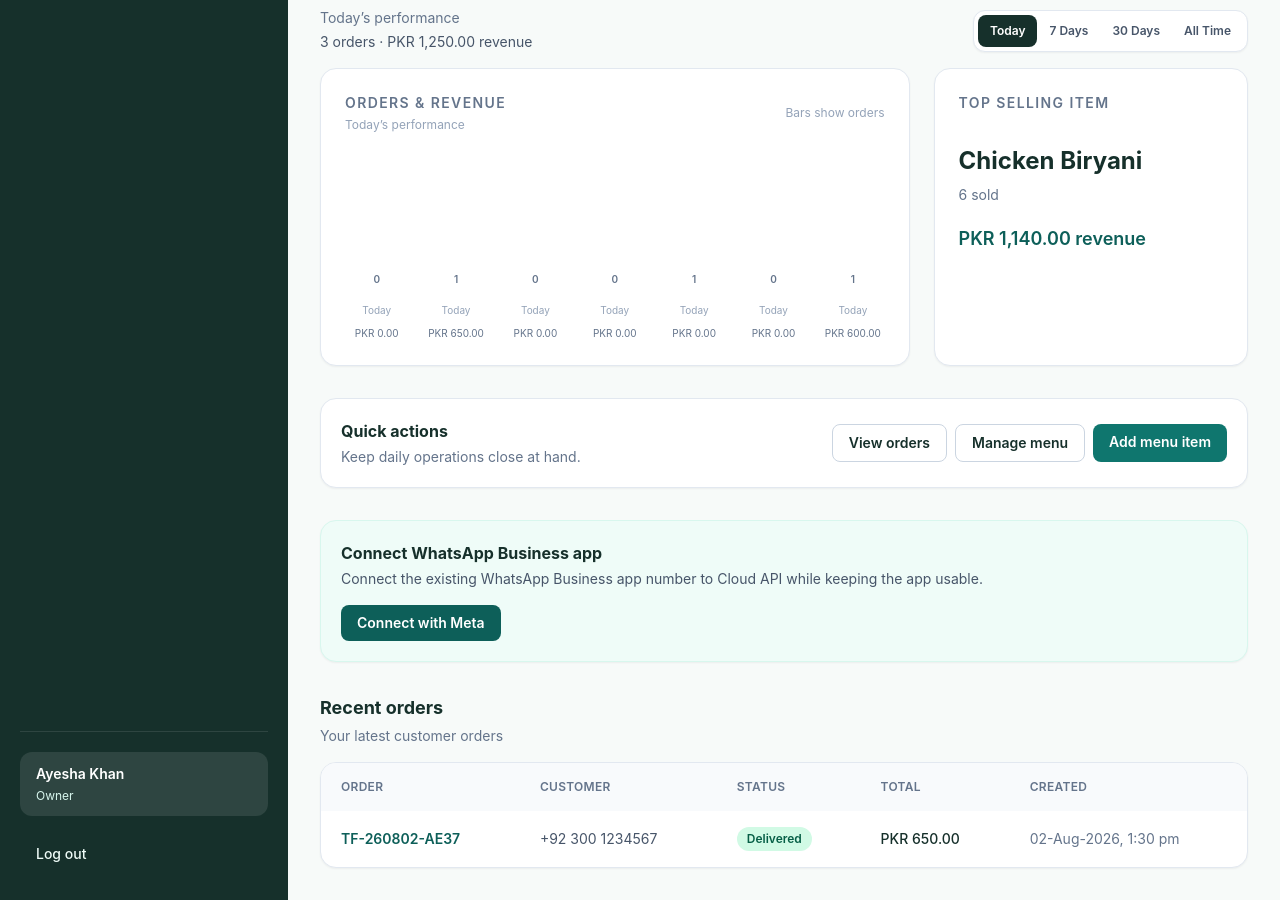
Scenario: TiffinAI admin dashboard › logs out and returns to login
(page scrolled)
Click the button "Log out" at (144, 854), box [20,832,268,876]
(page scrolled)
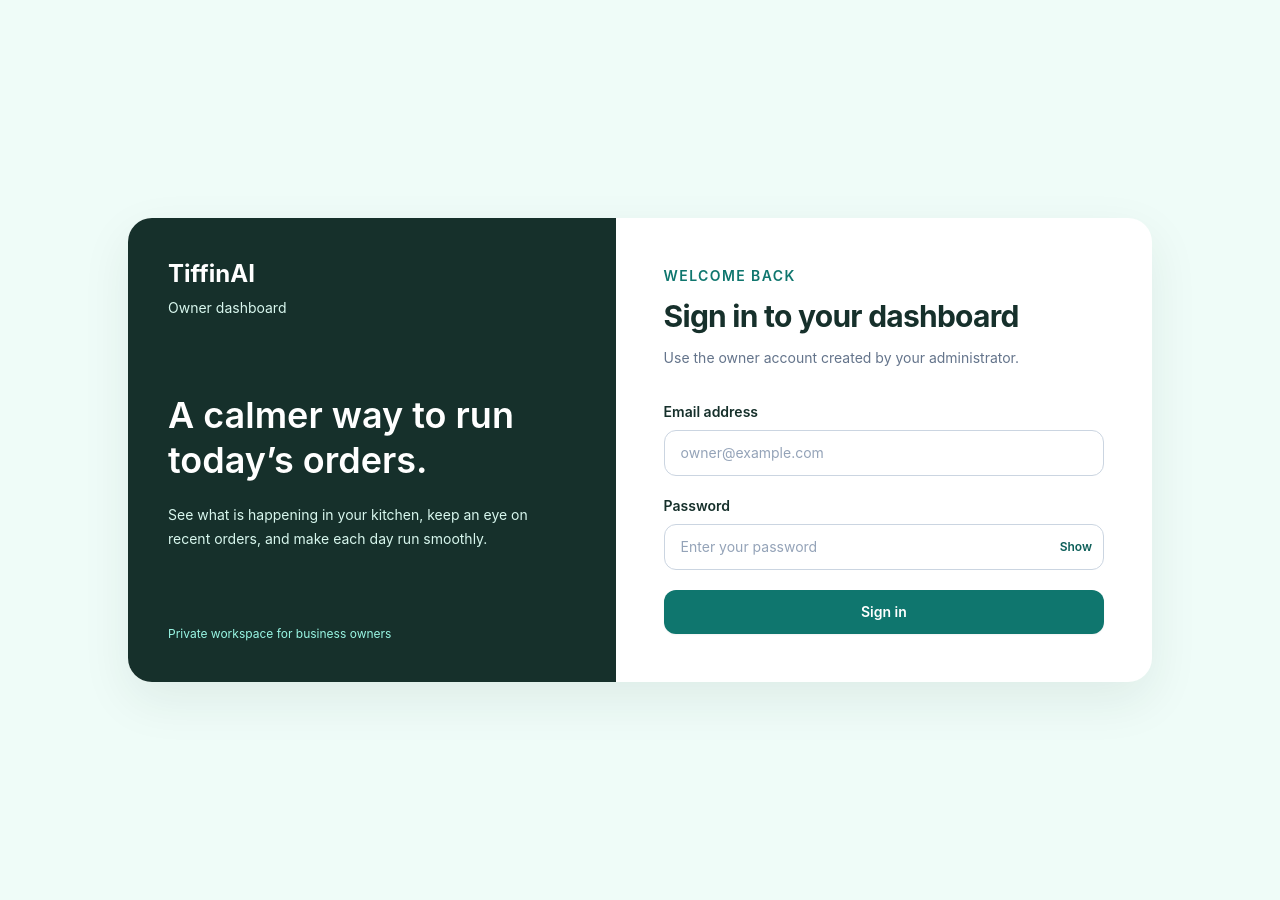
Check: the heading "Sign in to your dashboard" is shown, box [664,298,1019,334]
